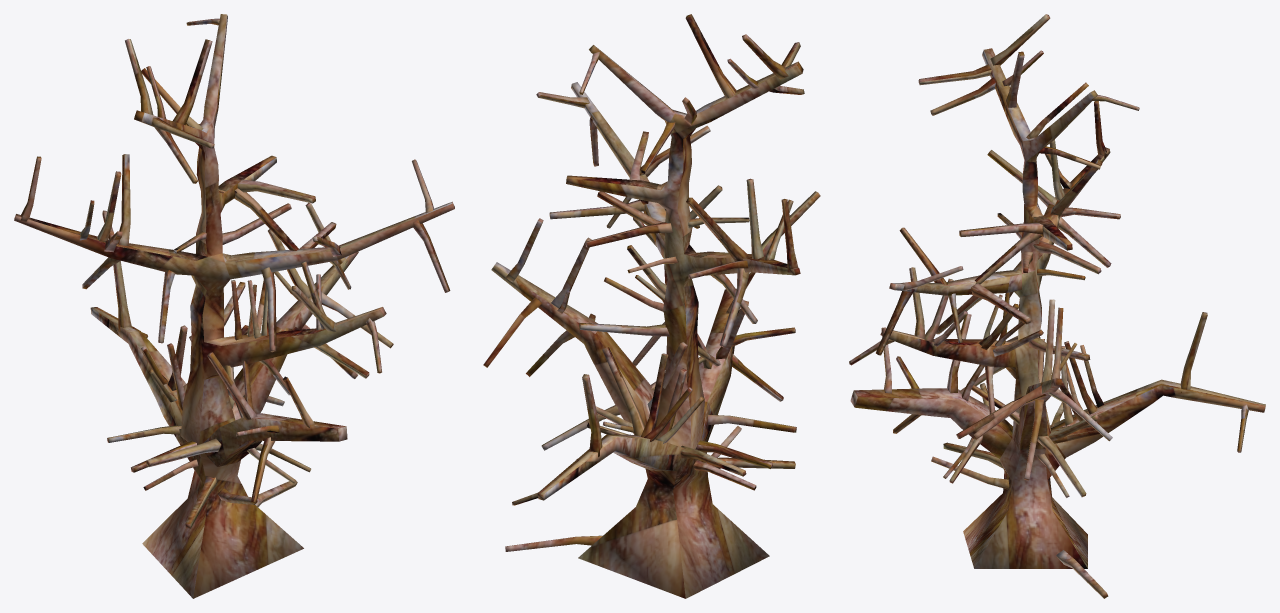
File: dead_tree.glb
3 renders of one model, left to right at view 1: azimuth 30°, elevation 25°; view 2: azimuth 150°, elevation 25°; view 3: azimuth 270°, elevation 25°, orthographic. The views are drawn at different scales.
Parts seen in each view (by area): view 1: dead_tree; view 2: dead_tree; view 3: dead_tree.
Part boxes in pixels (<box>): dead_tree: <box>14,14,454,598</box>; dead_tree: <box>483,14,820,598</box>; dead_tree: <box>849,14,1265,598</box>.
Size of the model in its own units: 35.73 by 55.26 by 41.14.
Materials: 1 (1 with a texture image).
